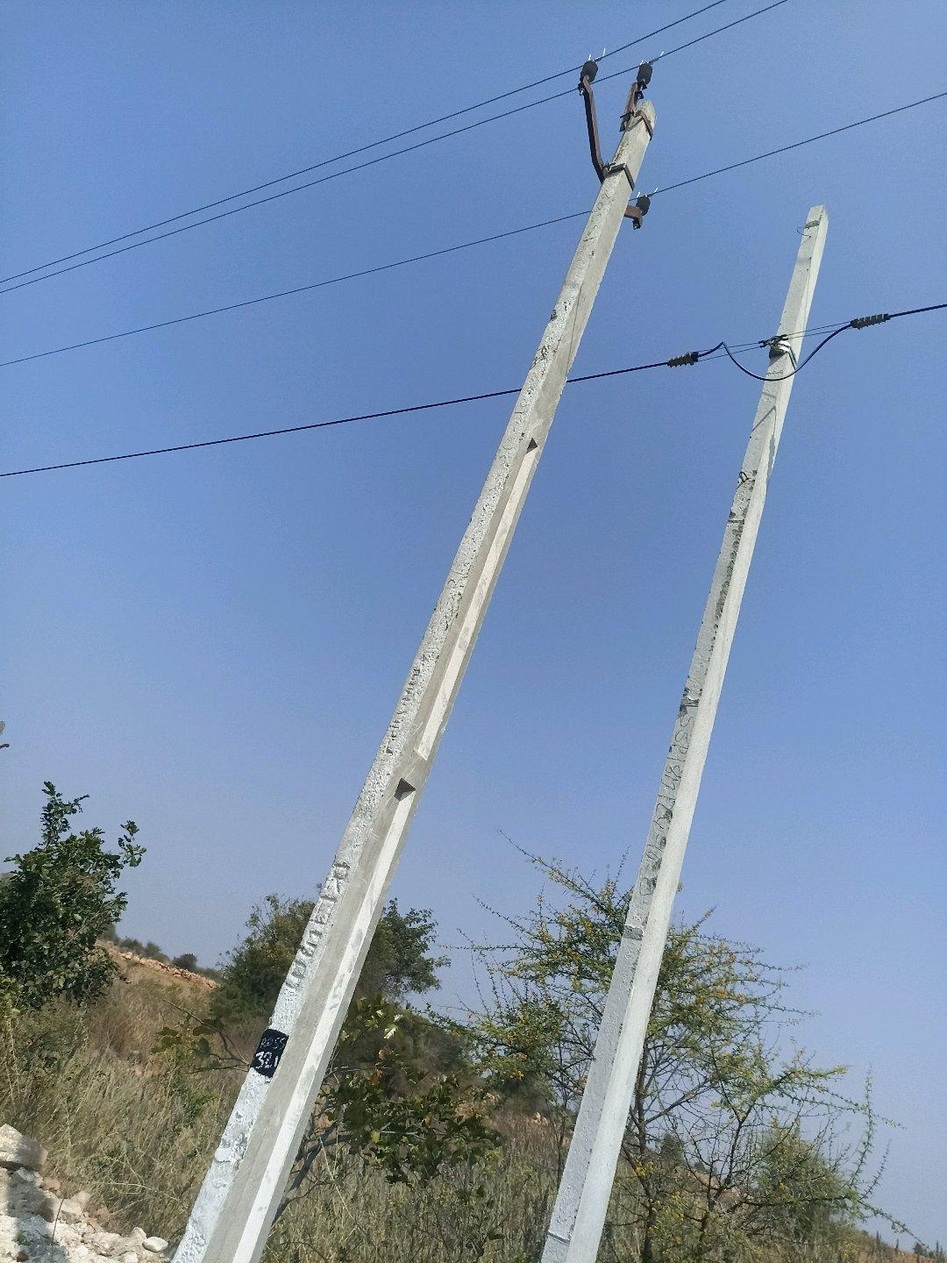{"0" "insulator", "1" "pole", "2" "crossarm", "3" "conductor", "4" "street_: (175, 62, 656, 1262), (646, 155, 648, 172)
